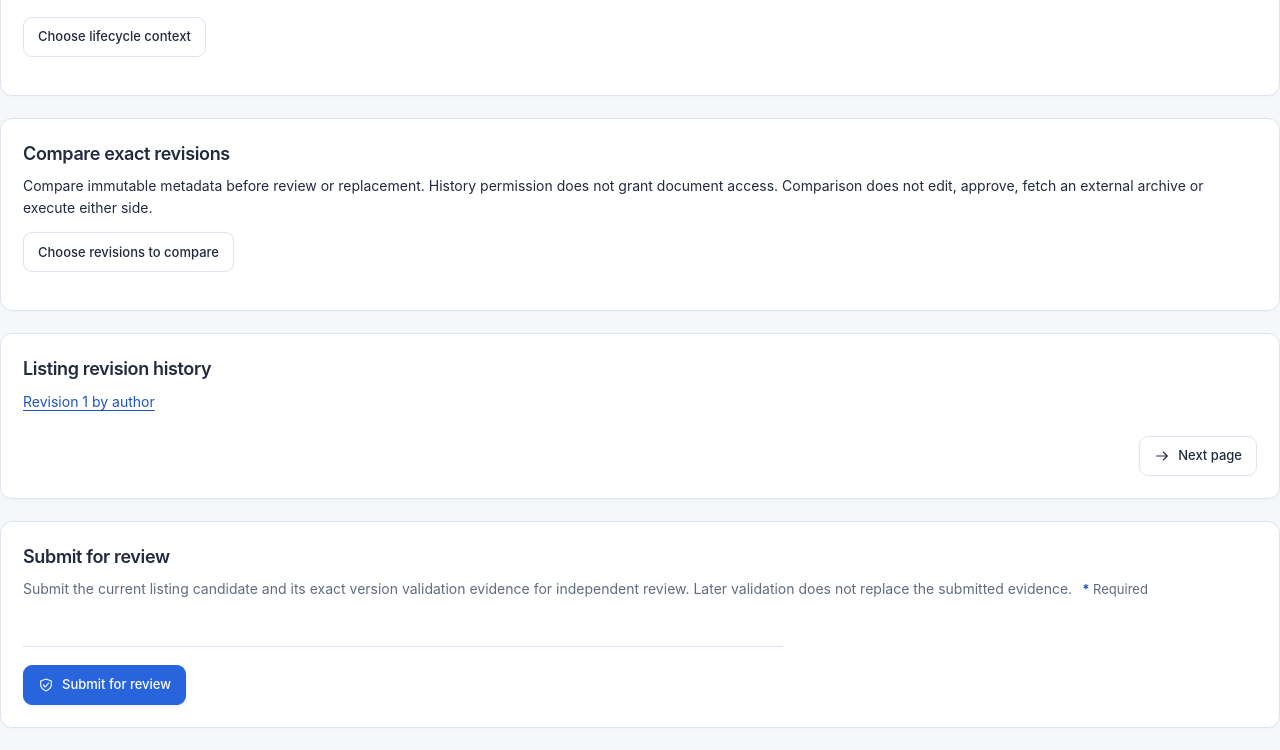
pages revision/release history and submits the selected listing for independent review
This screenshot has width=1280, height=750.
(page scrolled)
Expected: the link "Revision 1 by author" is shown, [23,393,155,410]
Click the button "Next page": [1198, 456] box [1139,436,1257,476]
(page scrolled)
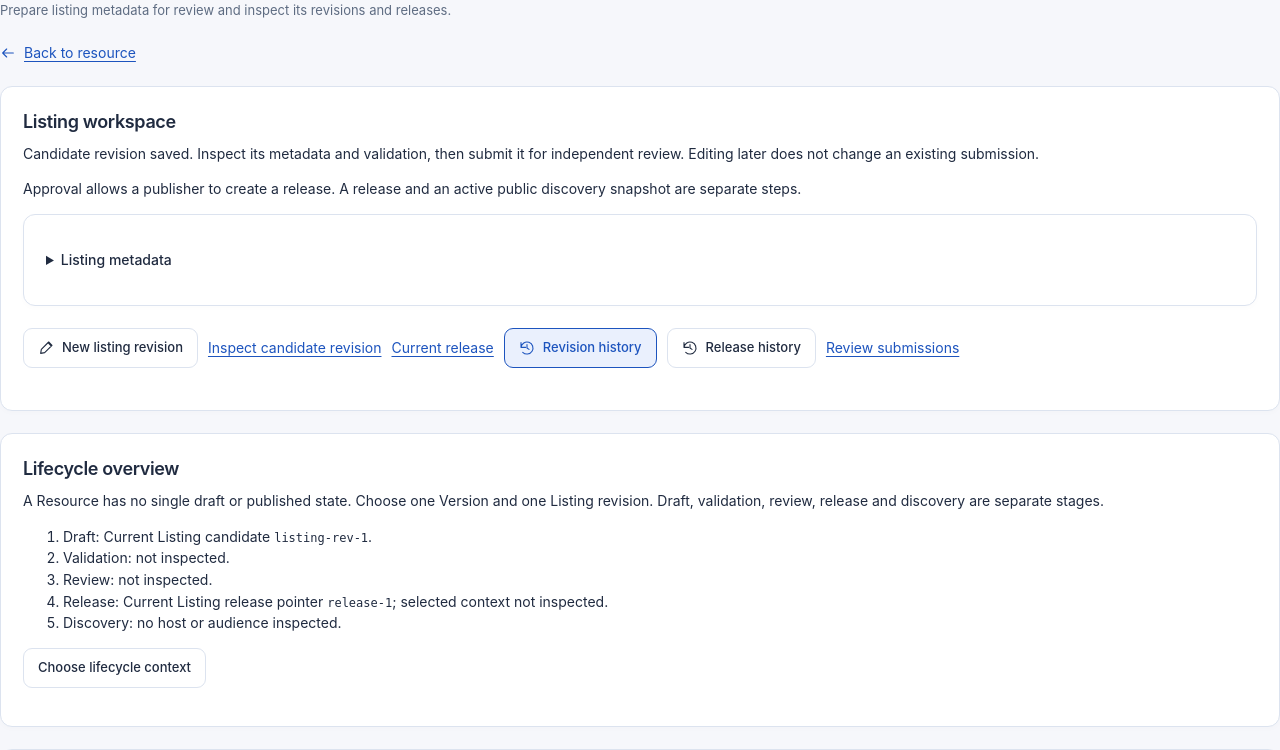
Click the button "Release history": [741, 348] box [666,328,816,368]
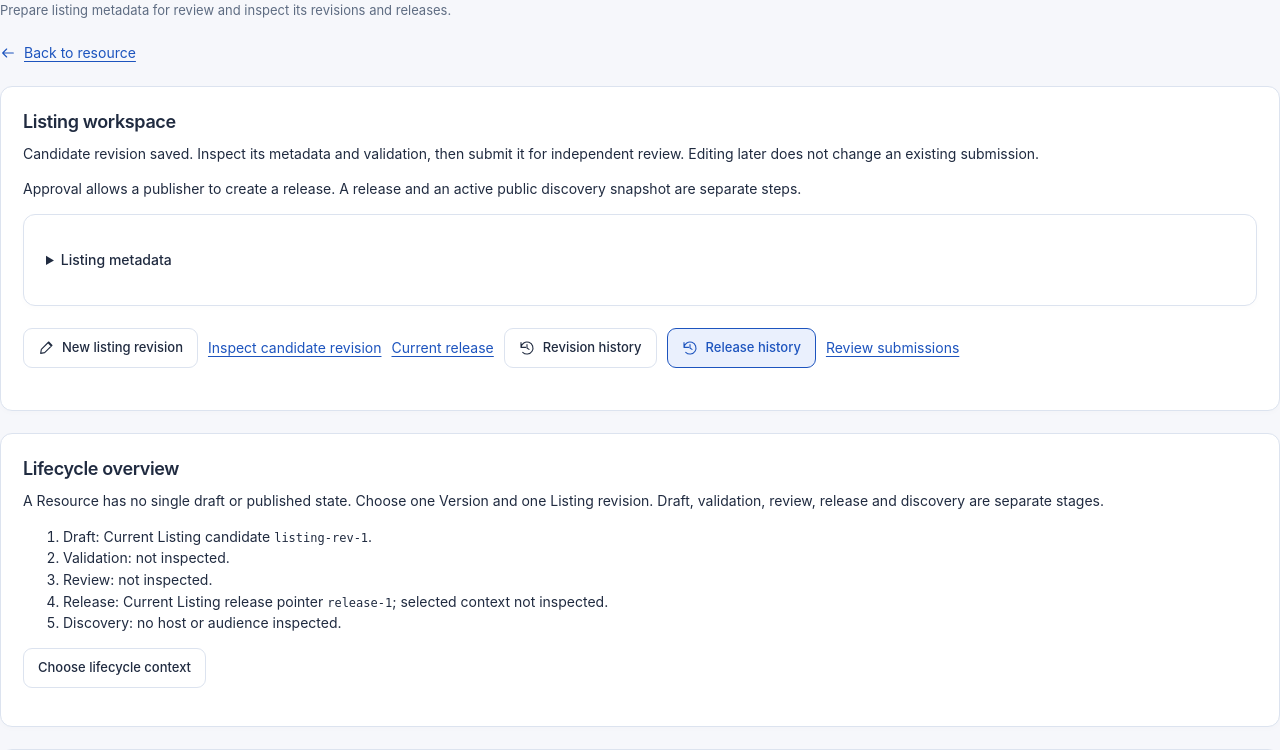
Click the button "Revision history": [580, 348] box [504,328,657,368]
(page scrolled)
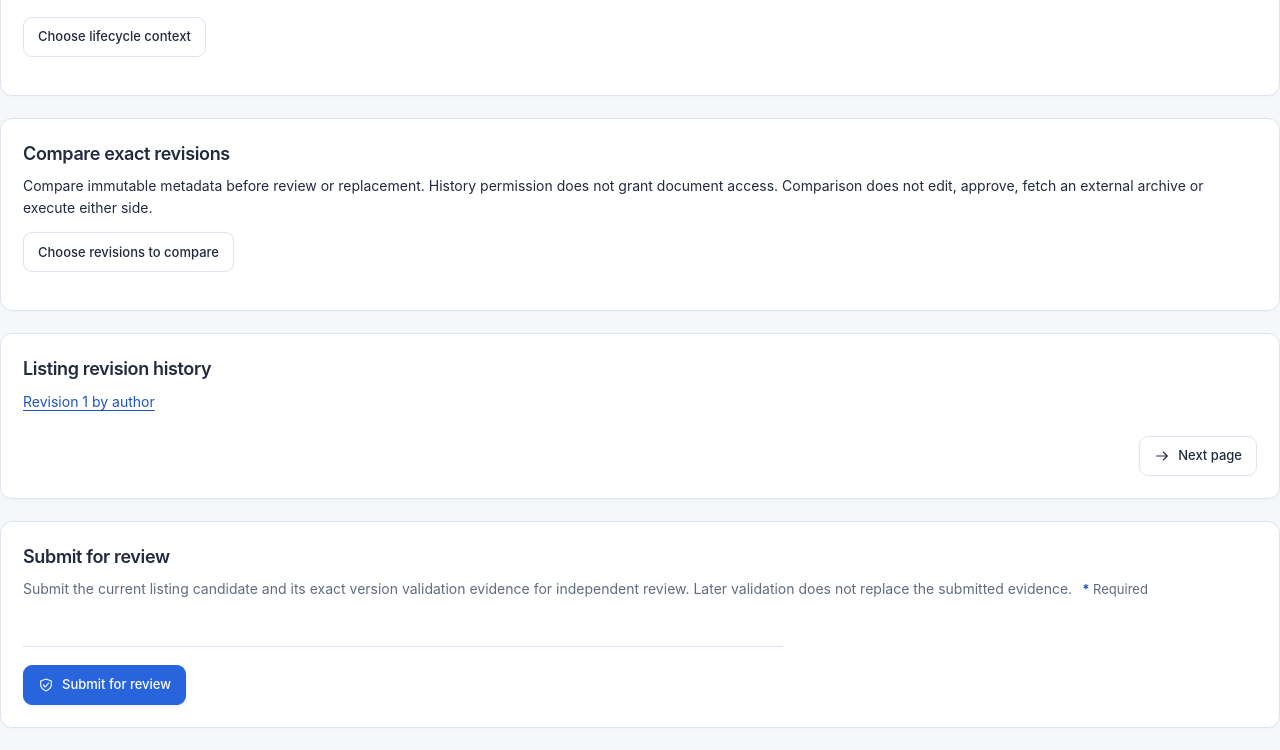
Expected: the link "Revision 1 by author" is shown, [23,393,155,410]
Click the button "Submit for review": [104, 685] box [23,665,186,705]
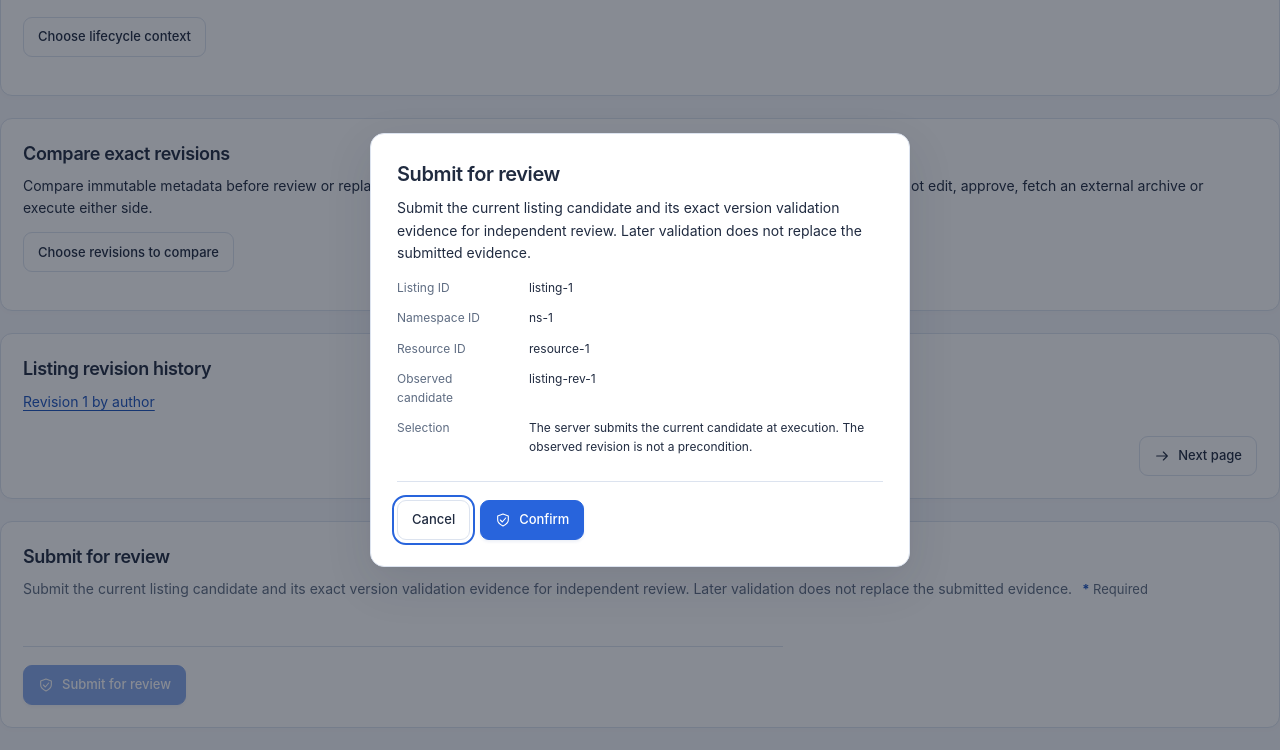
Click the button "Confirm": [532, 520] box [480,500,584,540]
(page scrolled)
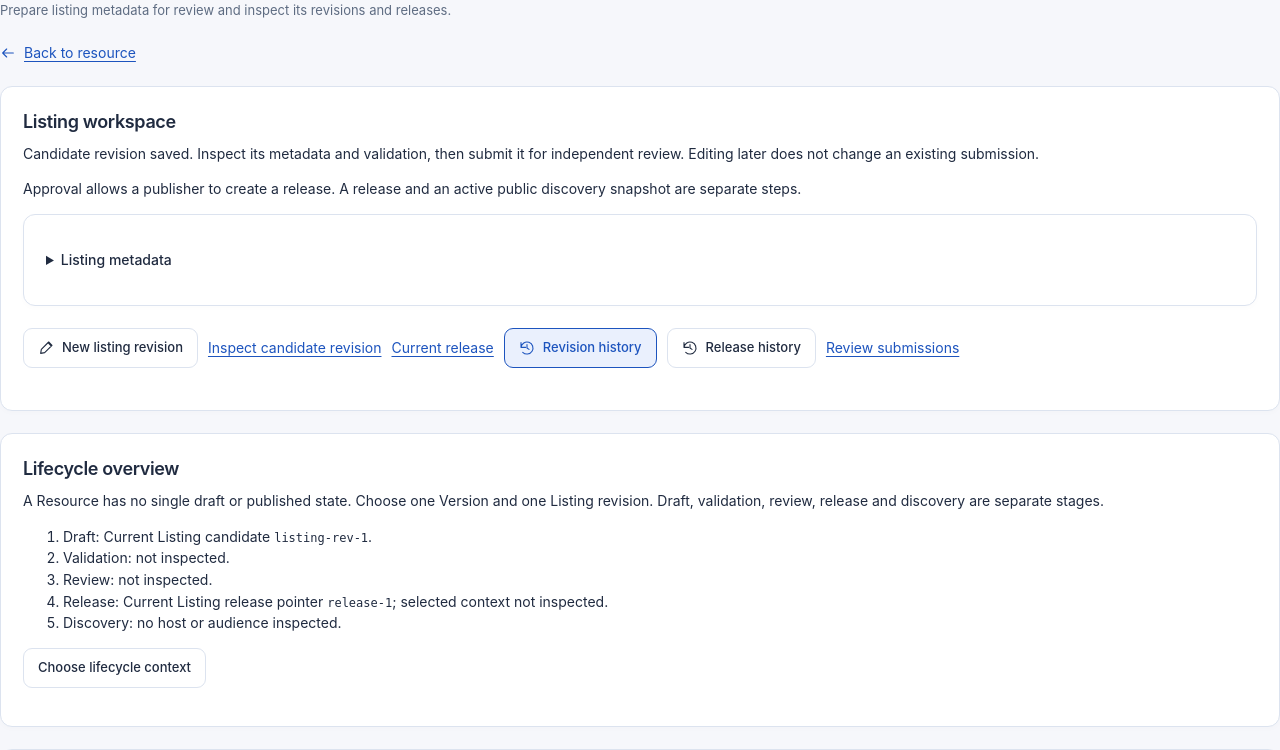
Click the button "Release history": [741, 348] box [666,328,816,368]
(page scrolled)
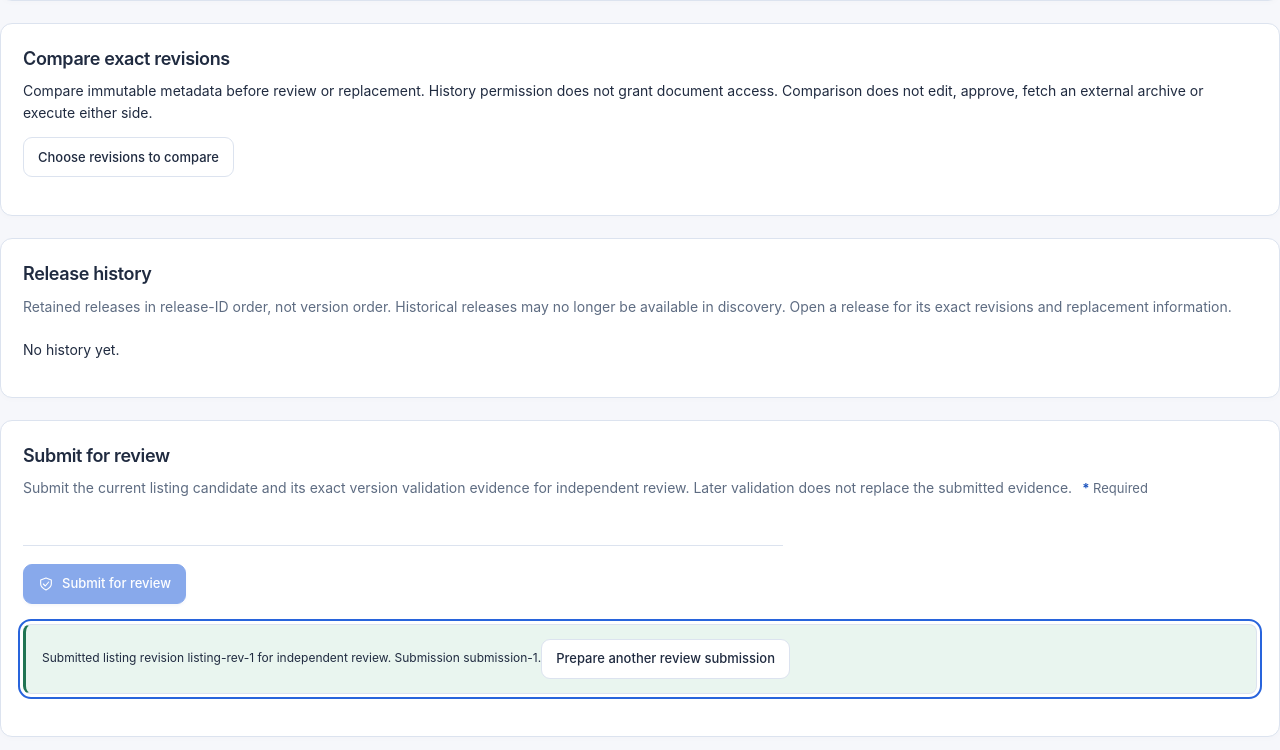
Expected: the text "No history yet." is shown, [23,341,120,358]
